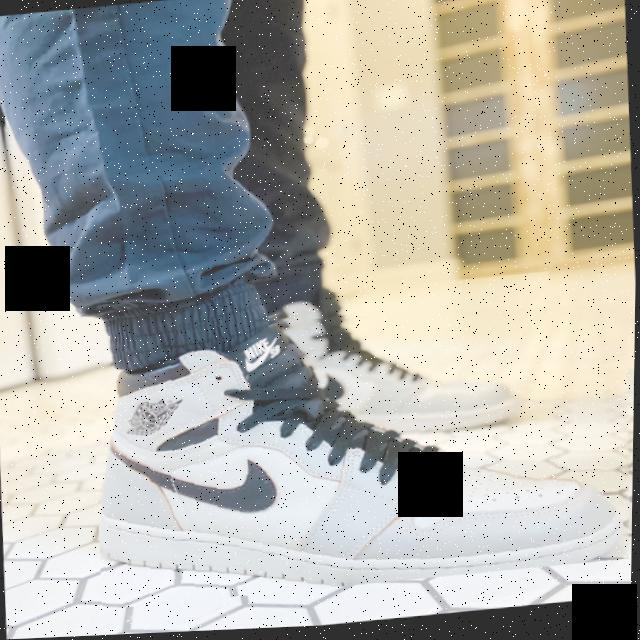shoe: (89, 284, 636, 611), (240, 276, 558, 452)
